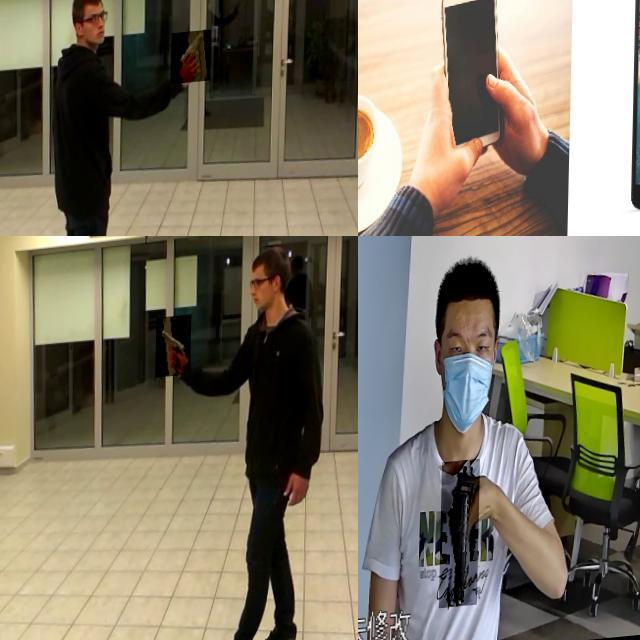gun-knife-thesis - v11 Yolov5 augmented: (442, 466, 483, 616), (157, 320, 193, 382), (172, 37, 213, 91)
